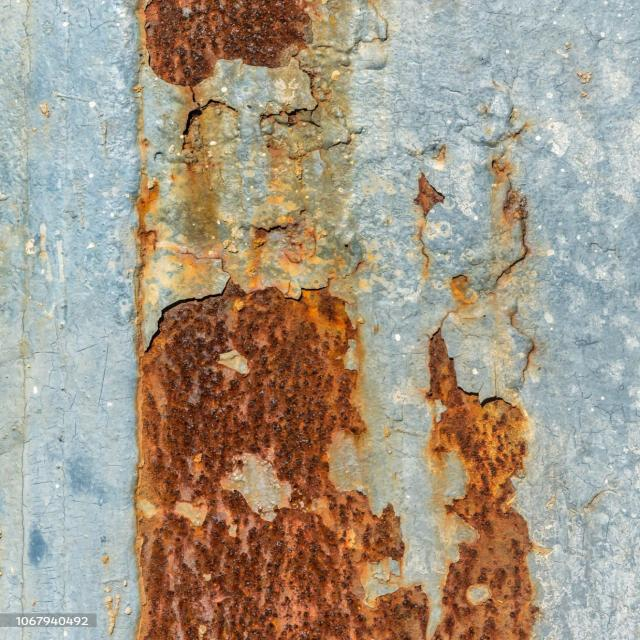Pitting Corrosion: (137, 282, 429, 640), (430, 335, 535, 640), (144, 0, 311, 86)
